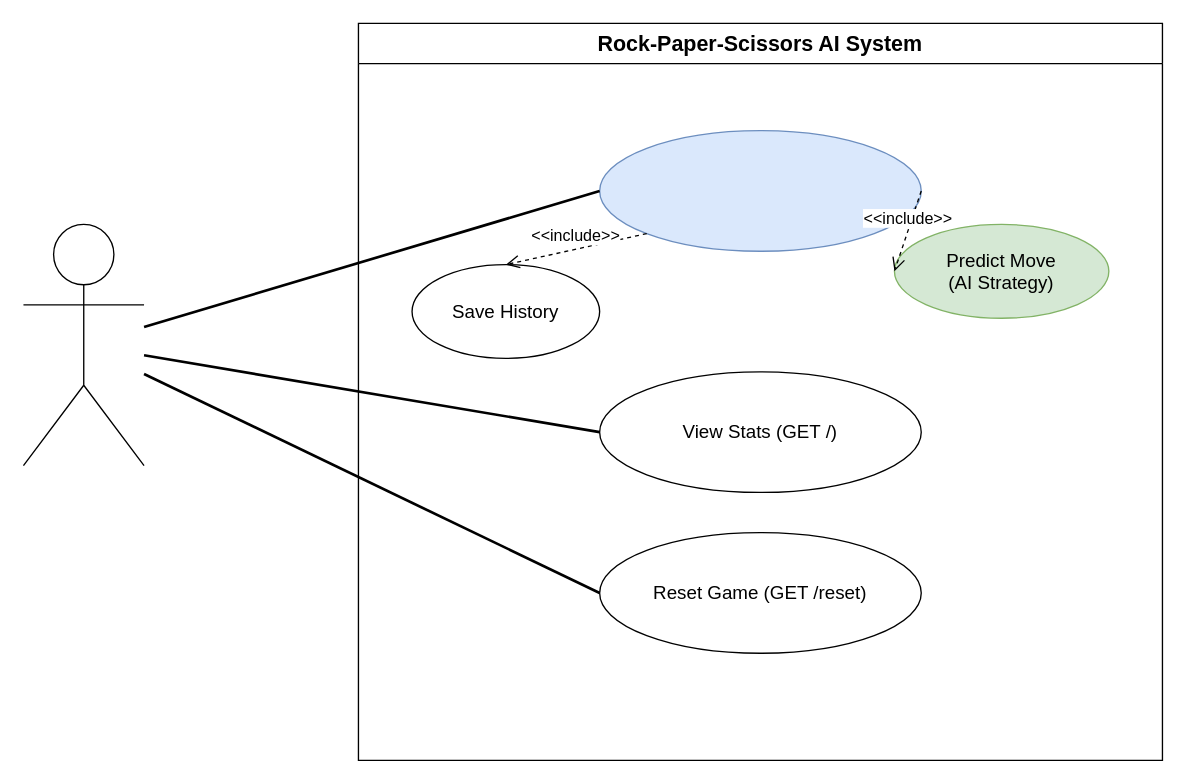
Some shapes in this 1186 by 784 pixel diagram are drawn without their labels. Each missing label, with the box of its shape:
Play Round (POST /play): (598, 129, 921, 251)
Player: (22, 223, 144, 466)
